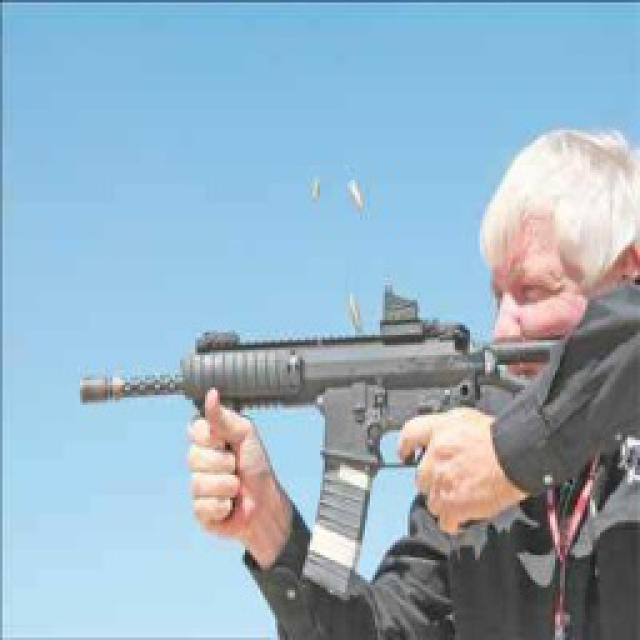long weapon: (33, 276, 601, 586)
